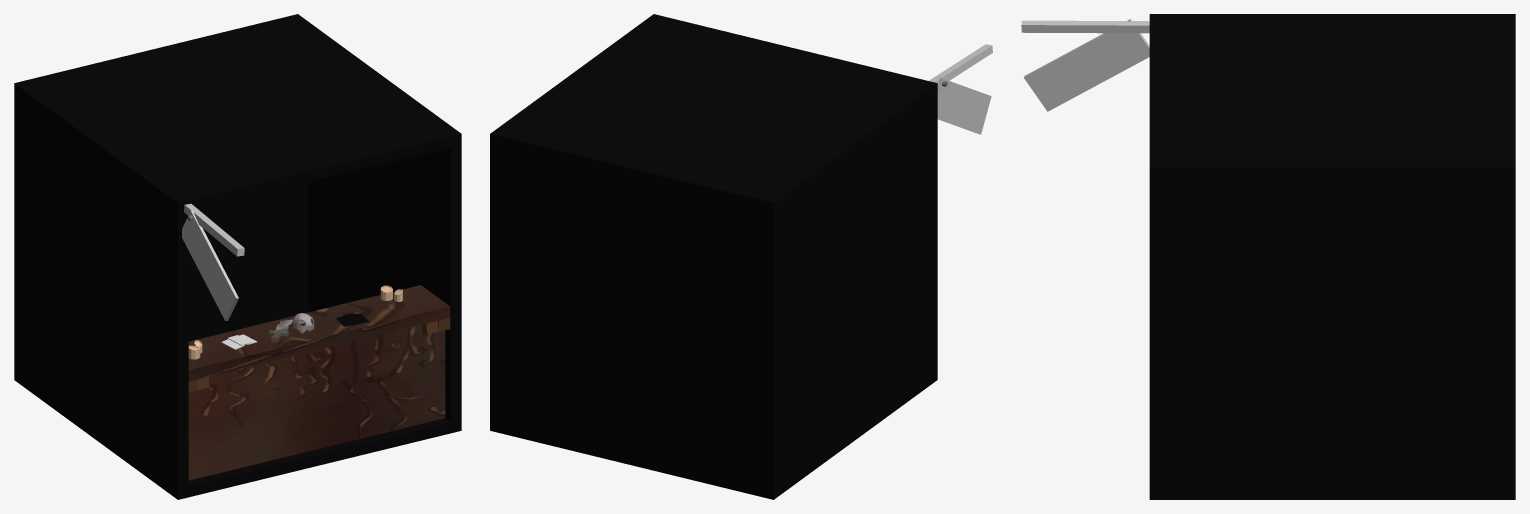
Rendered from shopee.fbx.
3 renders of one model, left to right at view 1: azimuth 30°, elevation 25°; view 2: azimuth 150°, elevation 25°; view 3: azimuth 270°, elevation 25°, orthographic. The views are drawn at different scales.
Visible parts, largest first — view 1: Cube.035; view 2: Cube.035; view 3: Cube.035.
Boxes of the visible parts, x1,y1,x2,y2 form: Cube.035: [14, 14, 461, 499]; Cube.035: [490, 14, 992, 499]; Cube.035: [1021, 14, 1515, 499].
Bounding box in the file's own units: 200 × 200 × 270.
